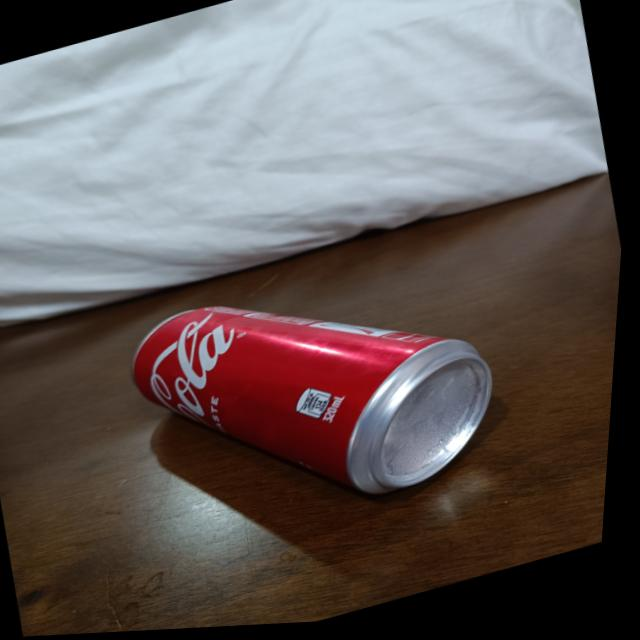coke: (116, 237, 517, 558)
